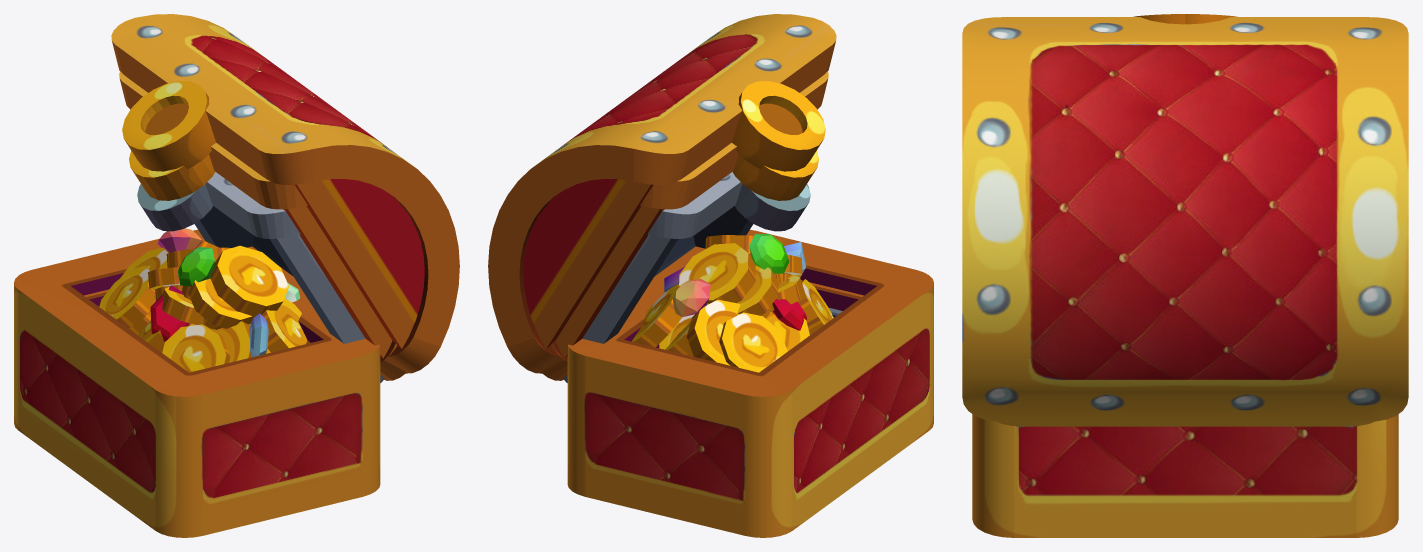
File: chets.fbx
3 views of the same model, side by side, from view 1: azimuth 30°, elevation 25°; view 2: azimuth 150°, elevation 25°; view 3: azimuth 270°, elevation 25° (orthographic). The views are drawn at different scales.
Visible parts, largest first — view 1: Chest_gold_base_lambert3_0, Chest_gold_cap_lambert3_0, Chest_treasure_coins_gems_Chest_treasure_coins_gems_M_0, Chest_gold_cap2_Chest_gold_0, Chest_gold_cap1_lambert2_0, Chest_treasure_coins1_Chest_treasure_coins_M_0; view 2: Chest_gold_base_lambert3_0, Chest_gold_cap_lambert3_0, Chest_treasure_coins_gems_Chest_treasure_coins_gems_M_0, Chest_gold_cap2_Chest_gold_0, Chest_gold_cap1_lambert2_0, Chest_treasure_coins1_Chest_treasure_coins_M_0, Chest_gold_base1_lambert2_0; view 3: Chest_gold_cap_lambert3_0, Chest_gold_base_lambert3_0, Chest_gold_cap1_lambert2_0.
Part boxes in pixels (<box>): Chest_gold_base_lambert3_0: <box>14,229,380,537</box>; Chest_gold_cap_lambert3_0: <box>111,14,459,373</box>; Chest_treasure_coins_gems_Chest_treasure_coins_gems_M_0: <box>120,228,307,362</box>; Chest_gold_cap2_Chest_gold_0: <box>137,172,384,382</box>; Chest_gold_cap1_lambert2_0: <box>119,71,407,380</box>; Chest_treasure_coins1_Chest_treasure_coins_M_0: <box>99,265,270,372</box>; Chest_gold_base_lambert3_0: <box>567,229,933,537</box>; Chest_gold_cap_lambert3_0: <box>488,14,836,373</box>; Chest_treasure_coins_gems_Chest_treasure_coins_gems_M_0: <box>632,234,806,365</box>; Chest_gold_cap2_Chest_gold_0: <box>563,172,810,382</box>; Chest_gold_cap1_lambert2_0: <box>540,71,828,380</box>; Chest_treasure_coins1_Chest_treasure_coins_M_0: <box>665,253,833,372</box>; Chest_gold_base1_lambert2_0: <box>655,280,863,348</box>; Chest_gold_cap_lambert3_0: <box>962,14,1408,421</box>; Chest_gold_base_lambert3_0: <box>972,414,1398,537</box>; Chest_gold_cap1_lambert2_0: <box>996,421,1374,426</box>.
Size of the model in its own units: 240 by 298 by 263.
Materials: 4 (4 with a texture image).
